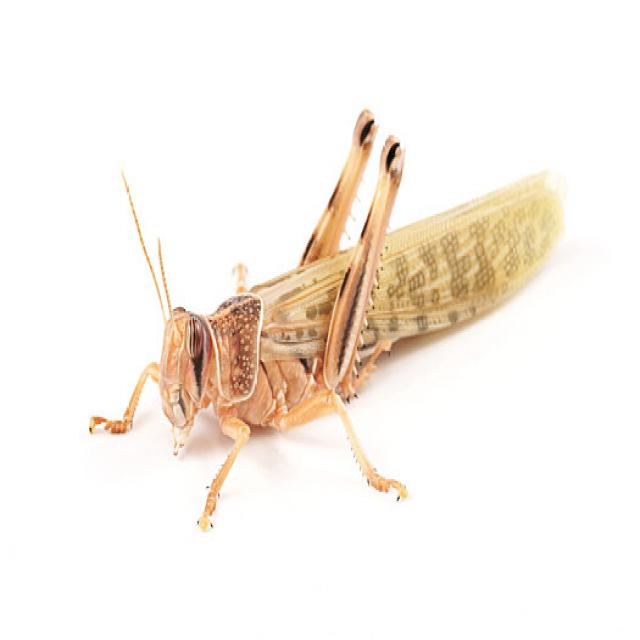ZhaMeng: (77, 86, 575, 532)
